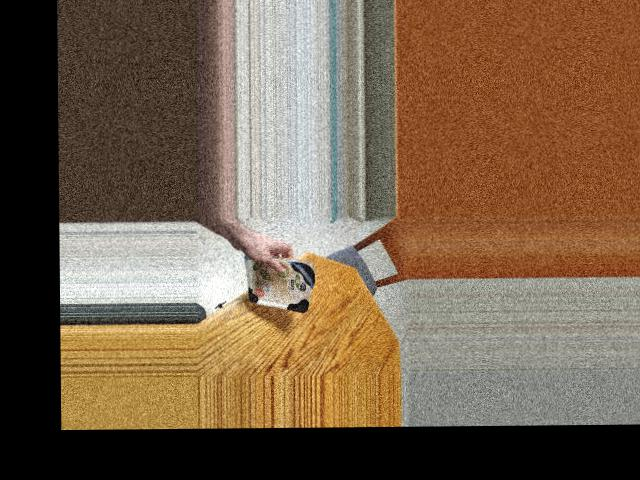cheese: (235, 256, 319, 307)
